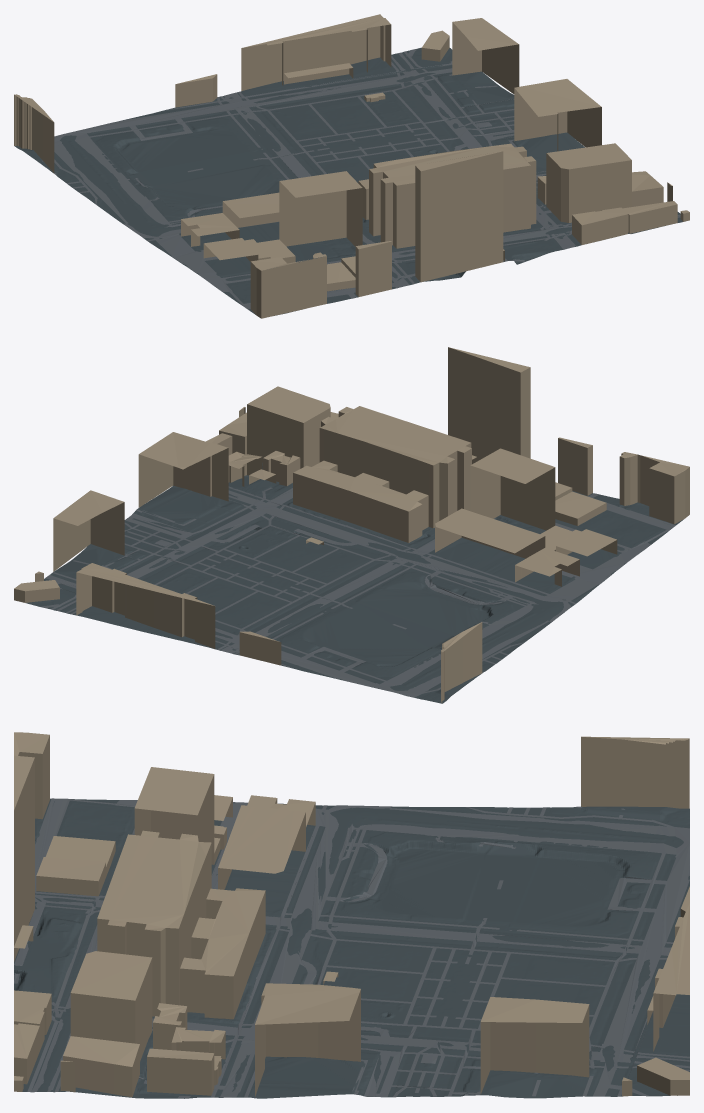
File: epsg26910-1435-10889.lod0.glb
3 renders of one model, top to bottom at view 1: azimuth 30°, elevation 25°; view 2: azimuth 150°, elevation 25°; view 3: azimuth 270°, elevation 25°, orthographic. The views are drawn at different scales.
Visible parts, largest first — view 1: epsg26910-1435-10889-lod0; view 2: epsg26910-1435-10889-lod0; view 3: epsg26910-1435-10889-lod0.
Boxes of the visible parts, x1,y1,x2,y2 form: epsg26910-1435-10889-lod0: (14, 14, 689, 318); epsg26910-1435-10889-lod0: (14, 347, 689, 703); epsg26910-1435-10889-lod0: (14, 732, 689, 1098).
Size of the model in its own units: 384 by 104 by 384.
